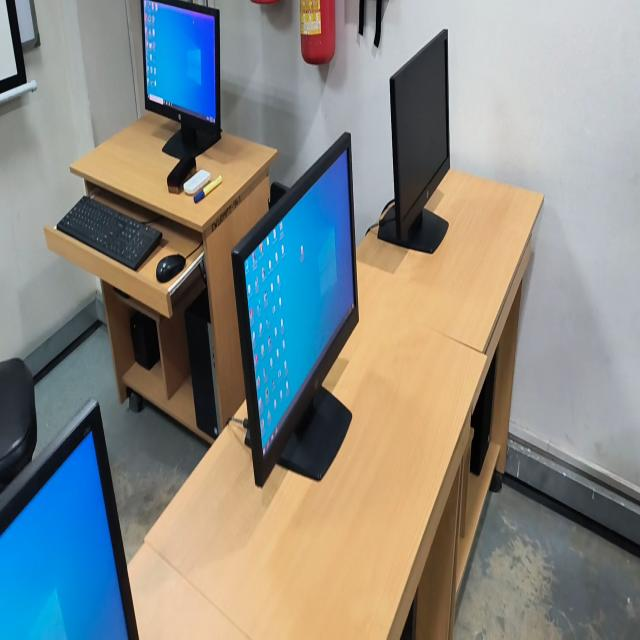Chair: (0, 358, 37, 493)
Cpu: (185, 288, 219, 439), (470, 354, 496, 475)
Fire Extinguisher: (300, 0, 335, 65)
Keyboard: (57, 196, 162, 270)
Monitor: (232, 133, 358, 487), (0, 401, 138, 639), (378, 30, 449, 252), (141, 0, 221, 159)
Mouse: (156, 254, 186, 282)
